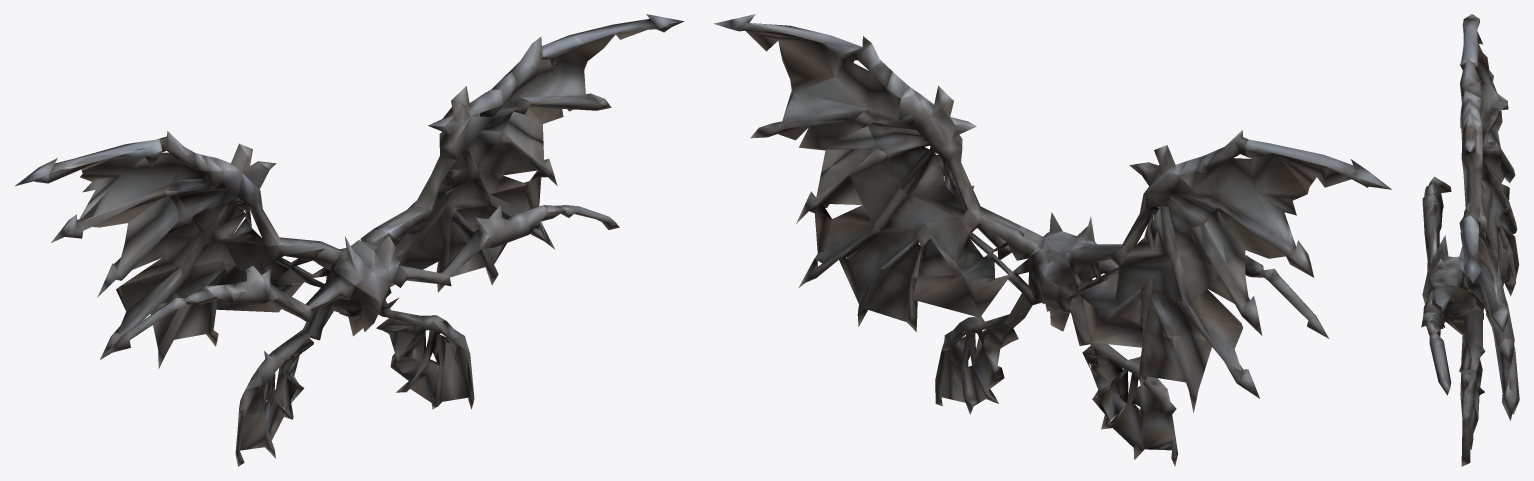
The model's file is 2125钢铁翅膀4.fbx.
The picture shows the model from 3 angles, left to right: view 1: azimuth 30°, elevation 25°; view 2: azimuth 150°, elevation 25°; view 3: azimuth 270°, elevation 25°; orthographic projection. The views are drawn at different scales.
Parts seen in each view (by area): view 1: geometry_0.004; view 2: geometry_0.004; view 3: geometry_0.004.
Part boxes in pixels (x1,y1,x2,y2): geometry_0.004: [15, 14, 684, 466]; geometry_0.004: [714, 14, 1391, 466]; geometry_0.004: [1421, 14, 1519, 466].
Bounding box in the file's own units: 96.81 × 49.12 × 14.9.
